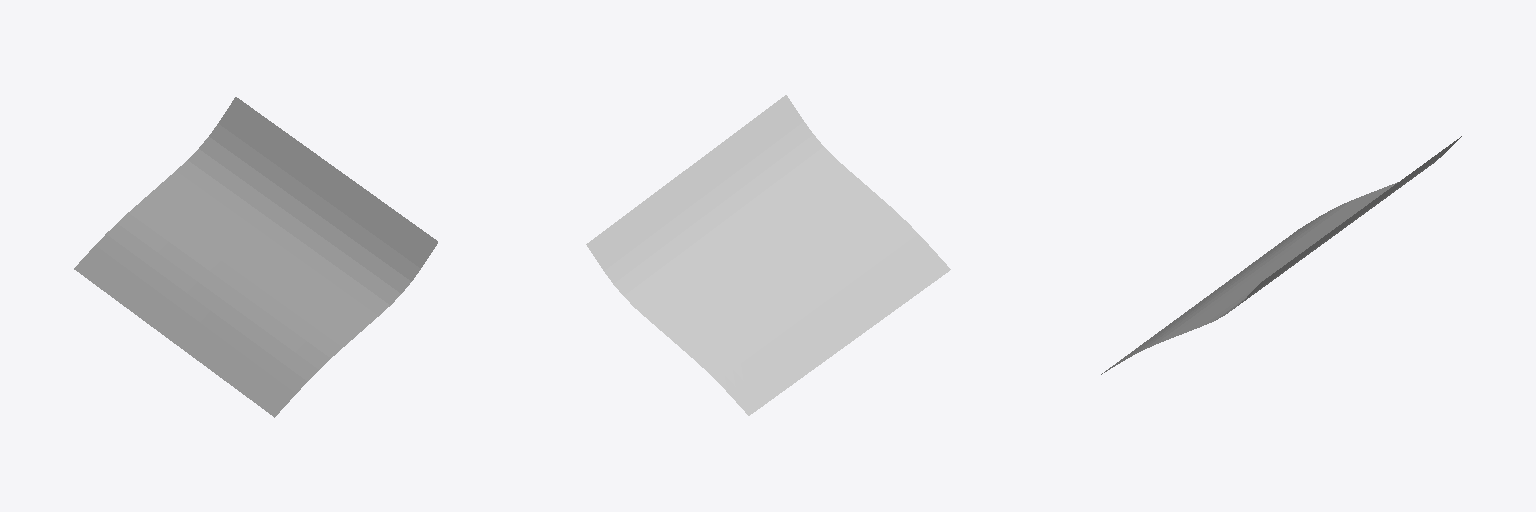
The model's file is page0008.obj.
3 renders of one model, left to right at view 1: azimuth 30°, elevation 25°; view 2: azimuth 150°, elevation 25°; view 3: azimuth 330°, elevation 25°, orthographic.
Bounding box in the file's own units: 235 × 185 × 501.